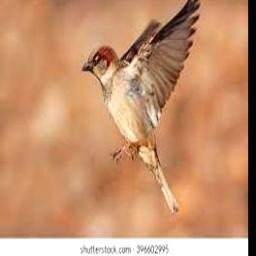Sparrow: (80, 0, 200, 213)
